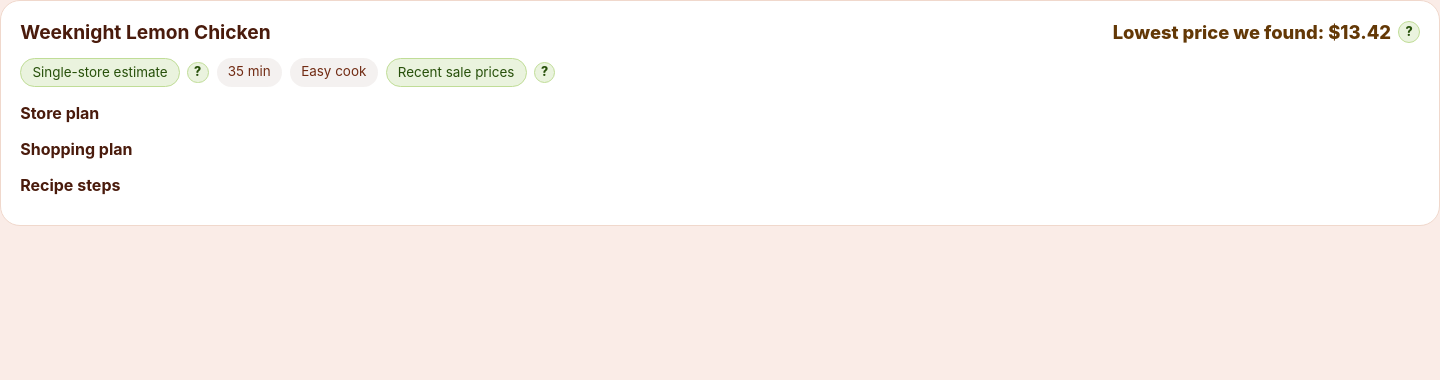
it: MealRecommendationCard › renders pantry lines without store price claims
Step 1. Click the button "Shopping plan" → (76, 149), box [20,139,1420,159]
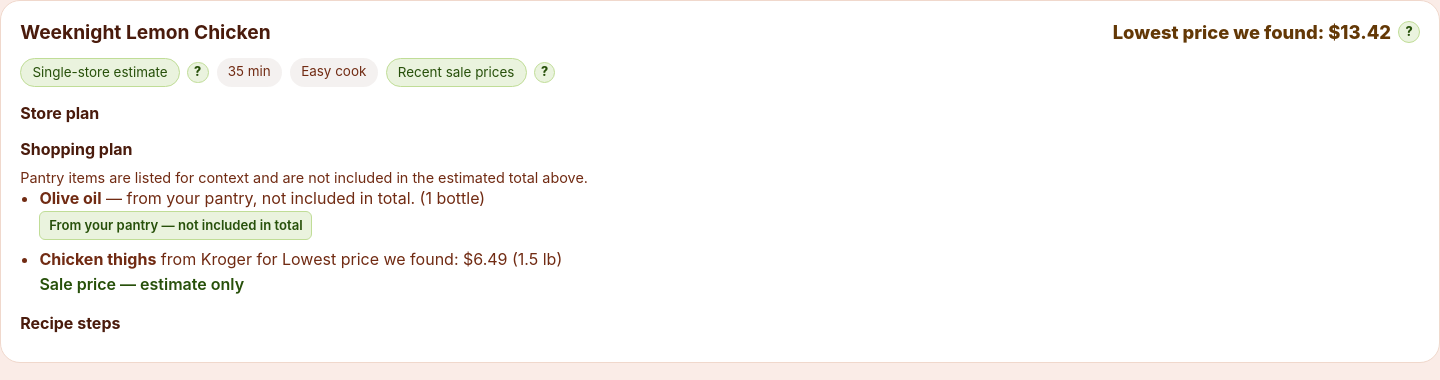
Expected: the list item "from your pantry, not included in total" is shown, [102,188,426,208]
Expected: the text "not included in the estimated total above" is shown, [20,169,588,186]
